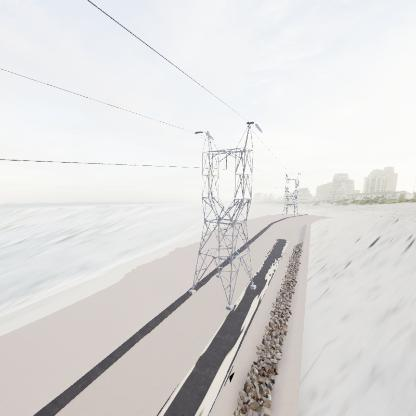tower: (190, 120, 264, 316), (280, 170, 303, 219)
